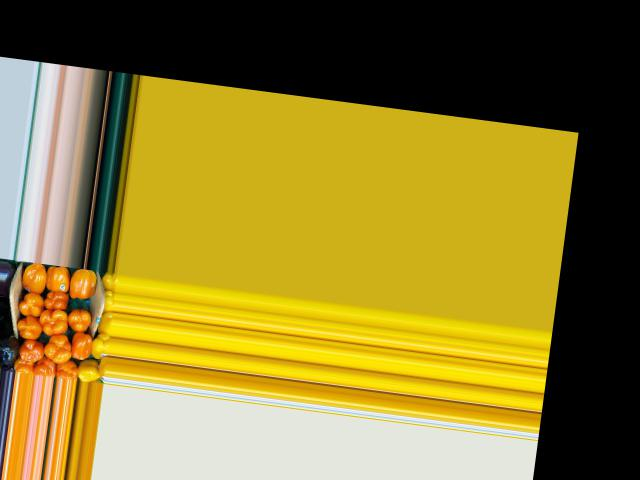bell_pepper: (90, 328, 108, 361)
